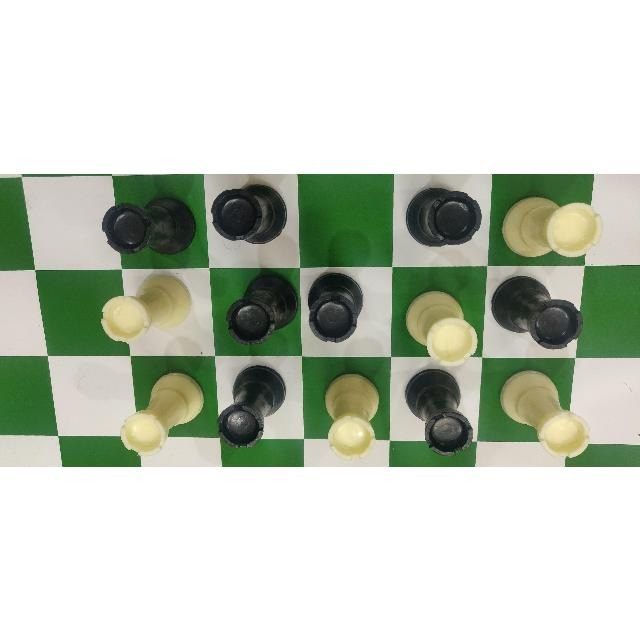black-rook: (490, 272, 586, 354), (215, 362, 299, 450), (399, 367, 477, 459), (215, 271, 299, 352), (399, 181, 486, 258), (102, 190, 198, 256), (307, 270, 379, 346), (209, 186, 292, 247)
white-rook: (487, 366, 597, 462), (118, 363, 207, 458), (498, 184, 607, 261), (98, 272, 197, 345), (399, 273, 478, 364), (311, 368, 383, 462)
